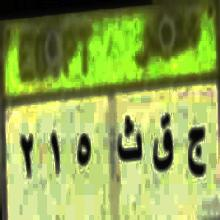1: (47, 127, 64, 178)
2: (19, 126, 37, 185)
5: (73, 130, 95, 180)
jeem: (186, 119, 206, 187)
qaaf: (152, 107, 176, 173)
thaa: (117, 113, 144, 171)
